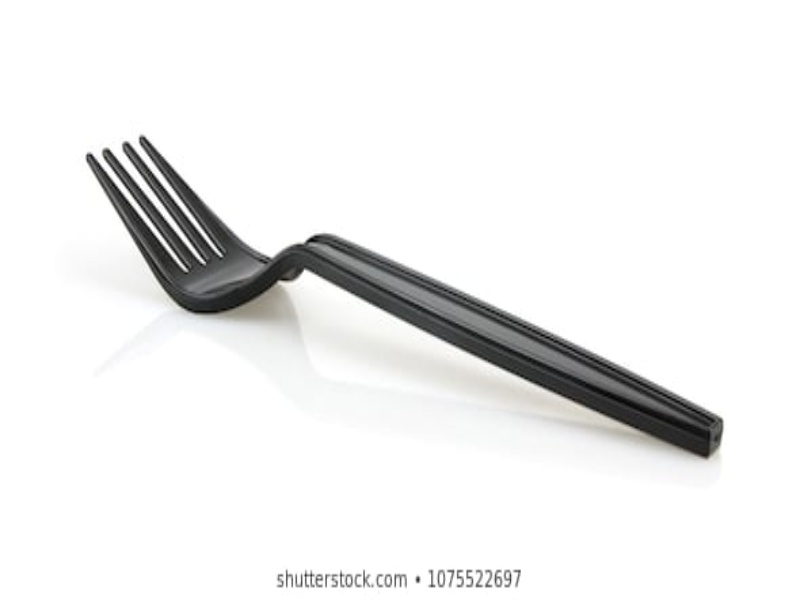plastic-silverware: (83, 132, 726, 470)
